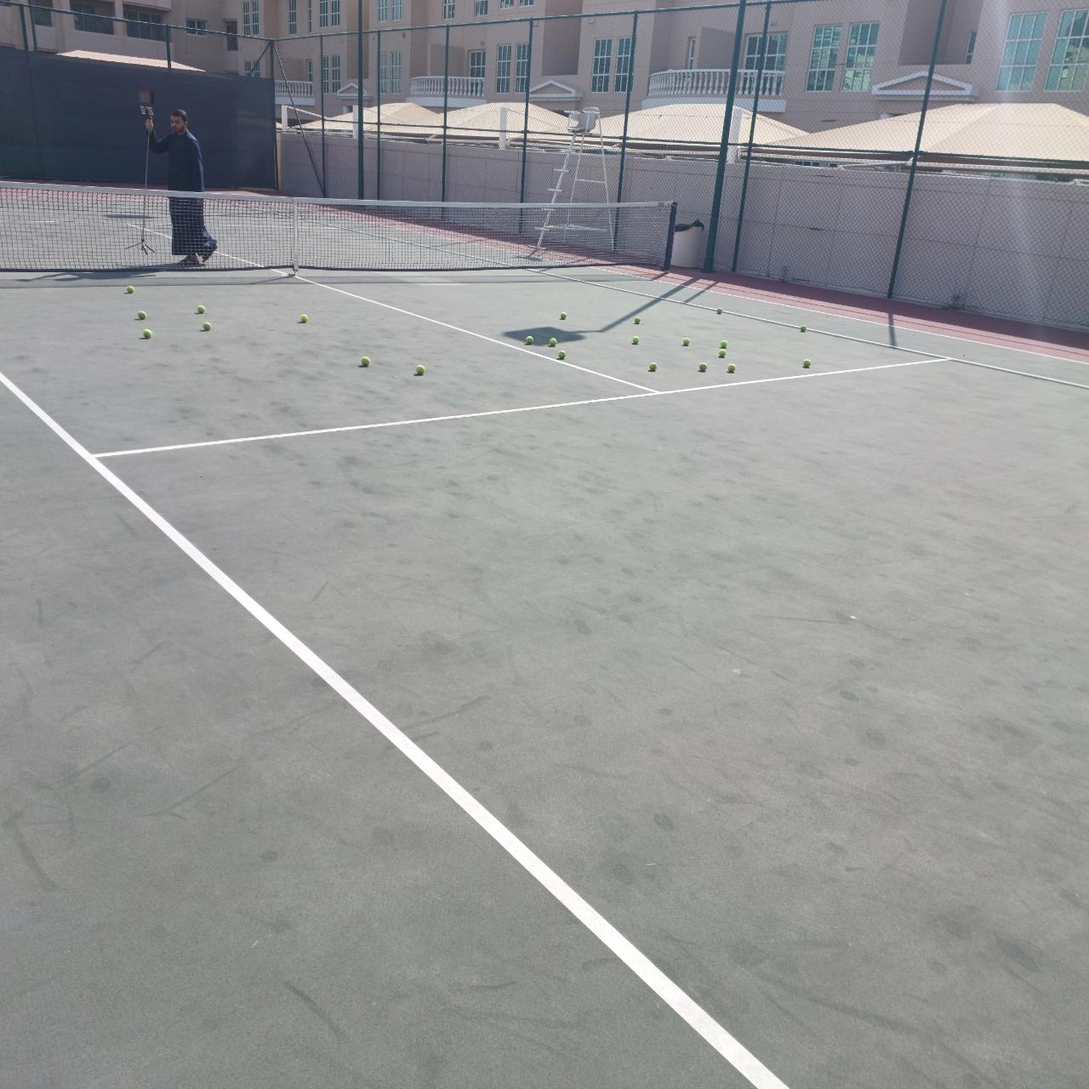tennis-ball: (414, 362, 426, 376), (360, 354, 372, 367), (142, 328, 153, 339), (299, 312, 310, 323), (137, 309, 148, 320), (202, 321, 213, 332), (125, 285, 135, 295), (197, 304, 206, 314), (525, 336, 534, 345), (557, 350, 566, 359), (649, 362, 658, 371), (698, 362, 707, 371), (803, 359, 812, 368), (559, 311, 567, 321), (728, 363, 736, 372), (549, 338, 557, 346), (632, 336, 640, 344), (720, 340, 728, 348), (682, 338, 690, 346), (634, 317, 641, 324), (719, 350, 726, 357), (800, 325, 807, 332), (717, 308, 723, 314)
